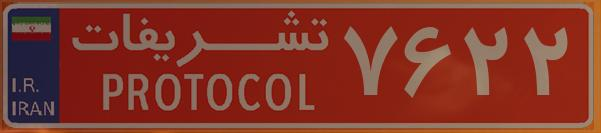2: (460, 20, 520, 115), (520, 20, 580, 115)
6: (400, 20, 460, 115)
7: (340, 20, 400, 115)
تشریفات: (60, 8, 340, 125)
